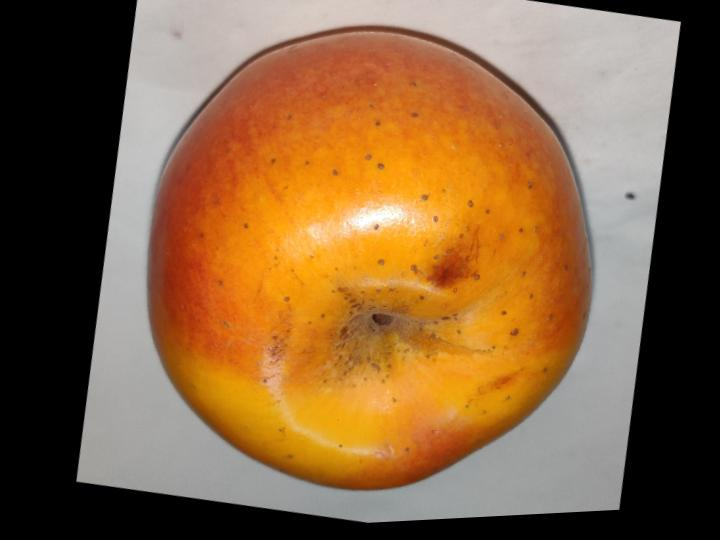apple: (148, 29, 591, 488)
surface_damage: (426, 232, 478, 287)
